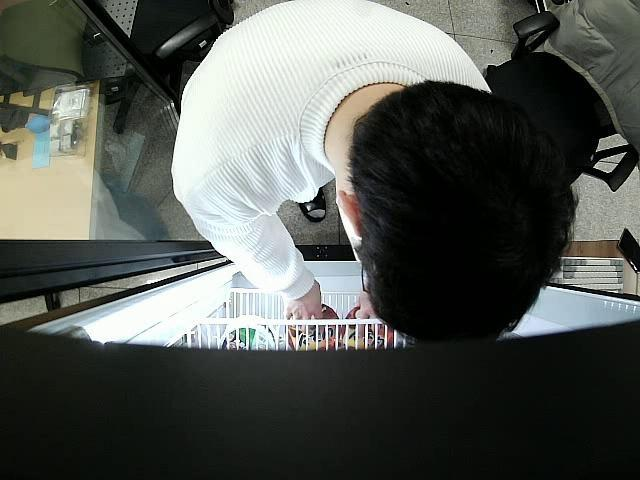05_nuguri_L: (288, 304, 340, 352), (341, 306, 393, 349)
